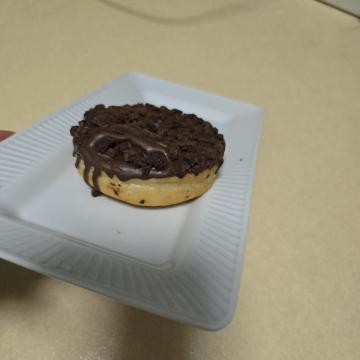doughnut: (88, 125, 222, 306)
